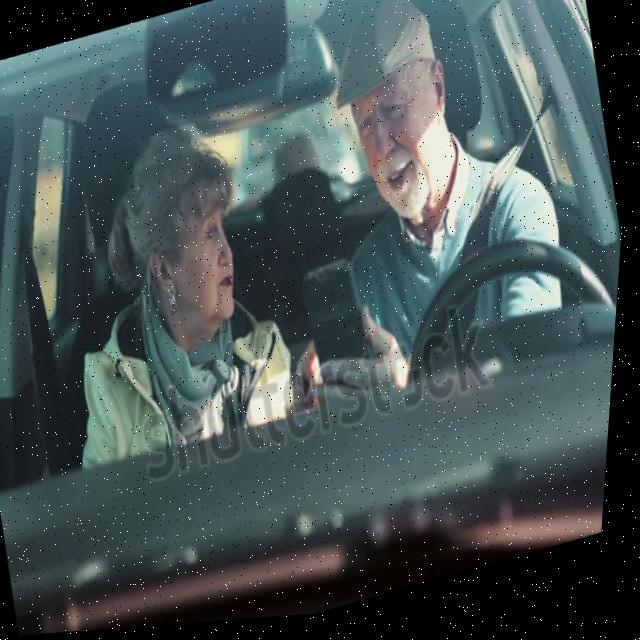PhoneCall: (294, 257, 380, 387)
